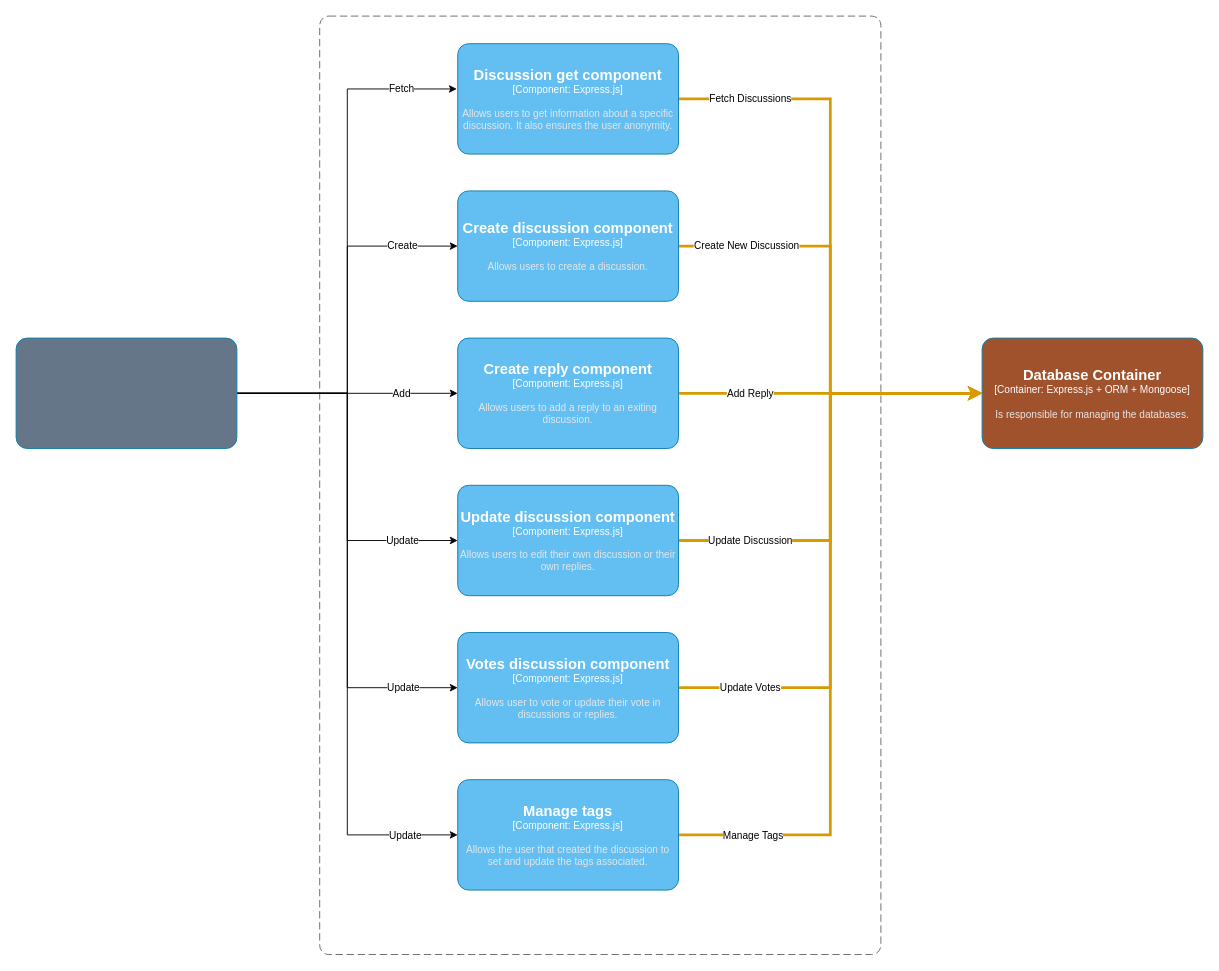
Image size: 1219x971. Some labels were removed from this diagram. Here are the shapes that lost their labels. From the top down, the box of each, then its label:
(15, 337, 237, 448): Request Handler [Container: Node.js] Replies to client's requests
(319, 15, 881, 954): Discussion Service [Component]
